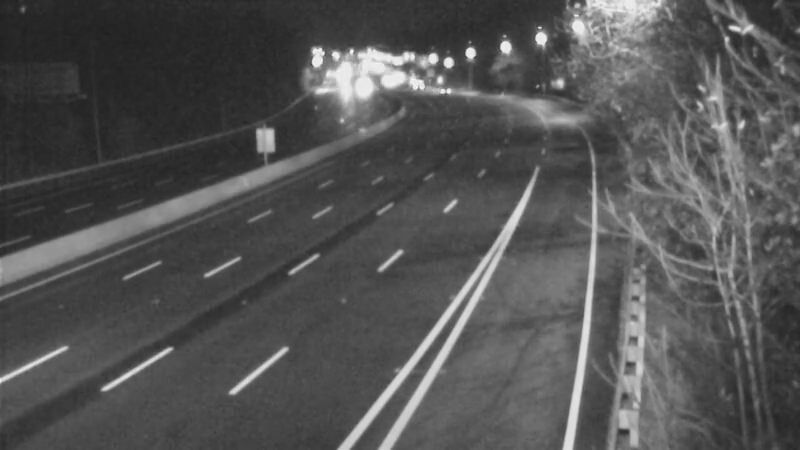vehicle: (388, 59, 438, 109), (416, 63, 466, 113)
